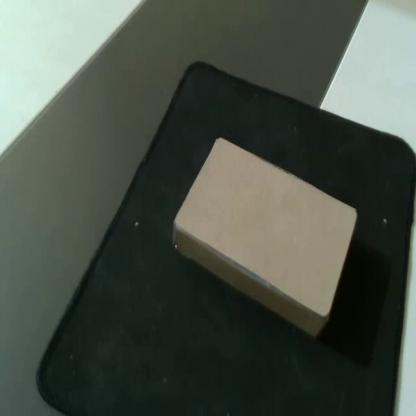Cube-silicone: (157, 121, 367, 344)
